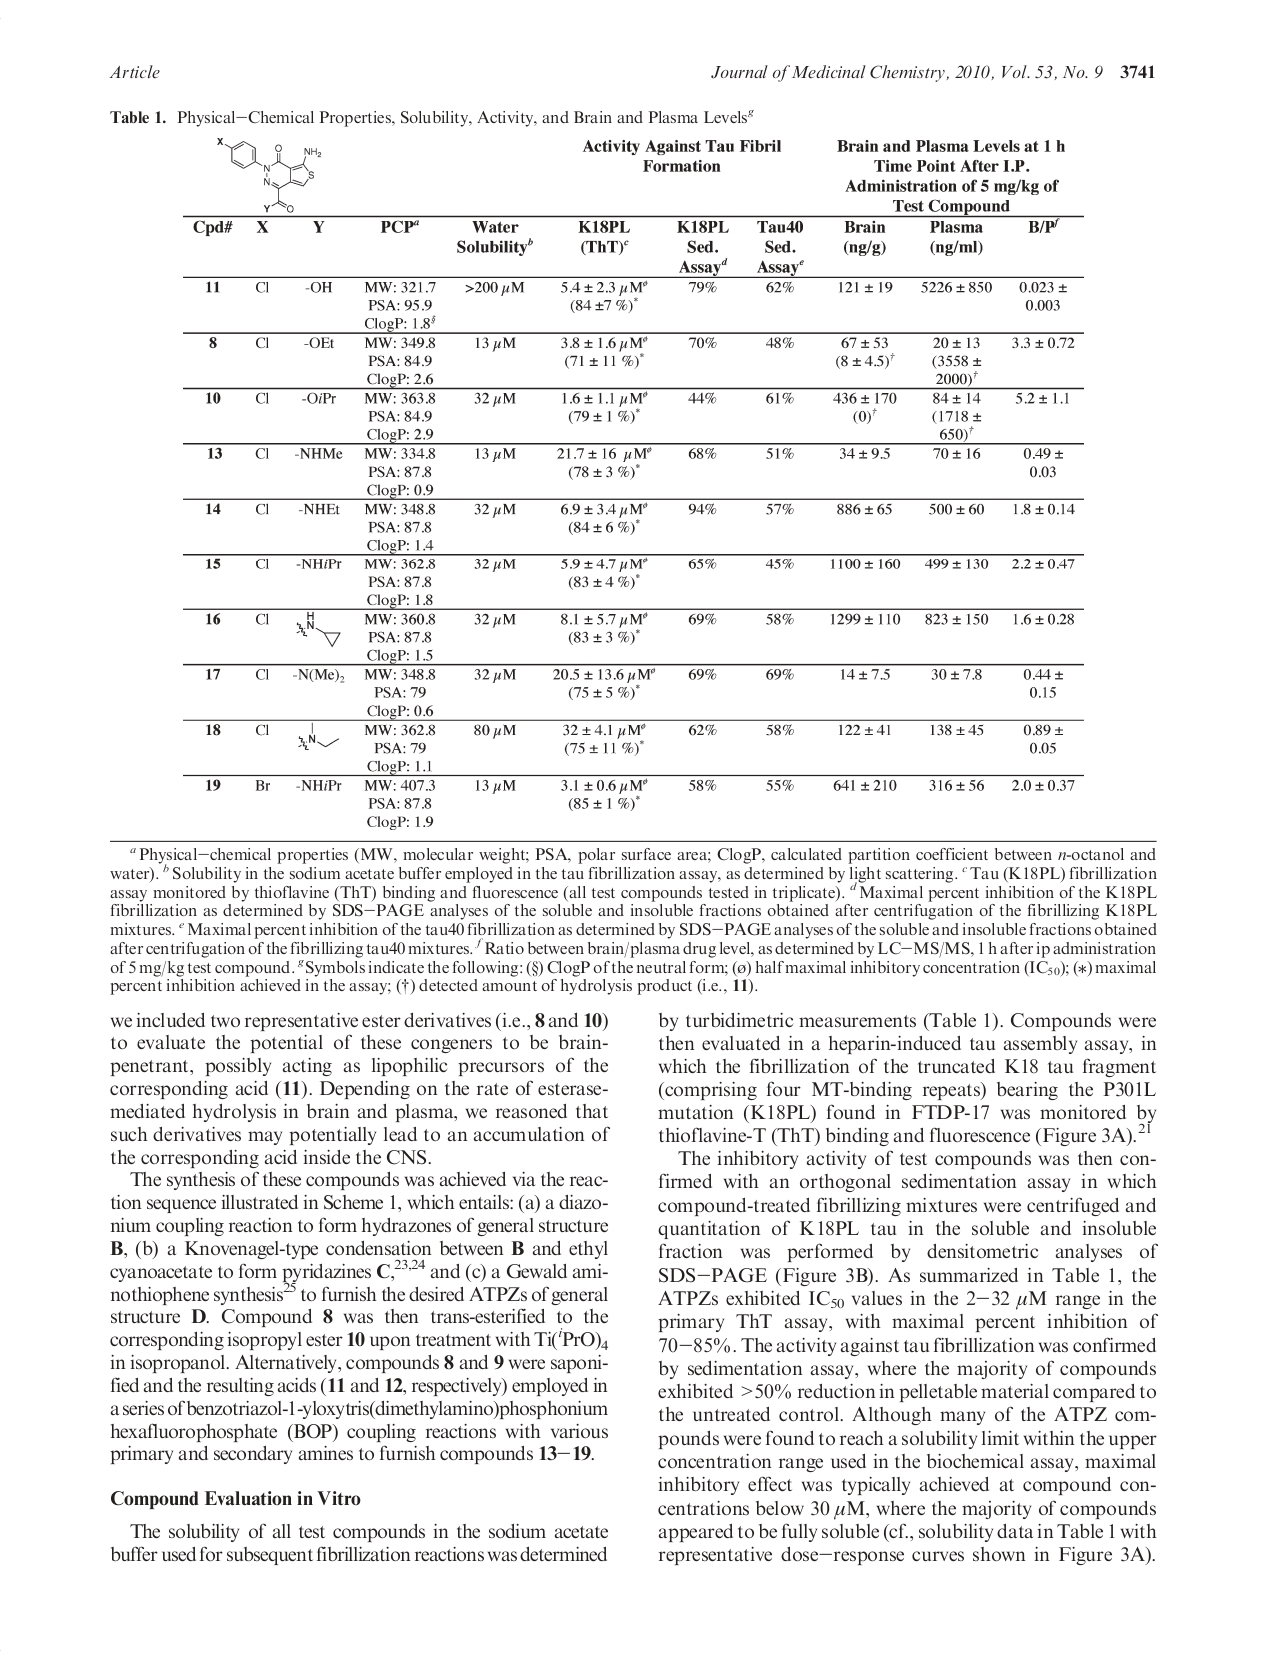exist_molecular: (211, 134, 324, 214), (285, 606, 346, 653), (289, 718, 346, 759)
